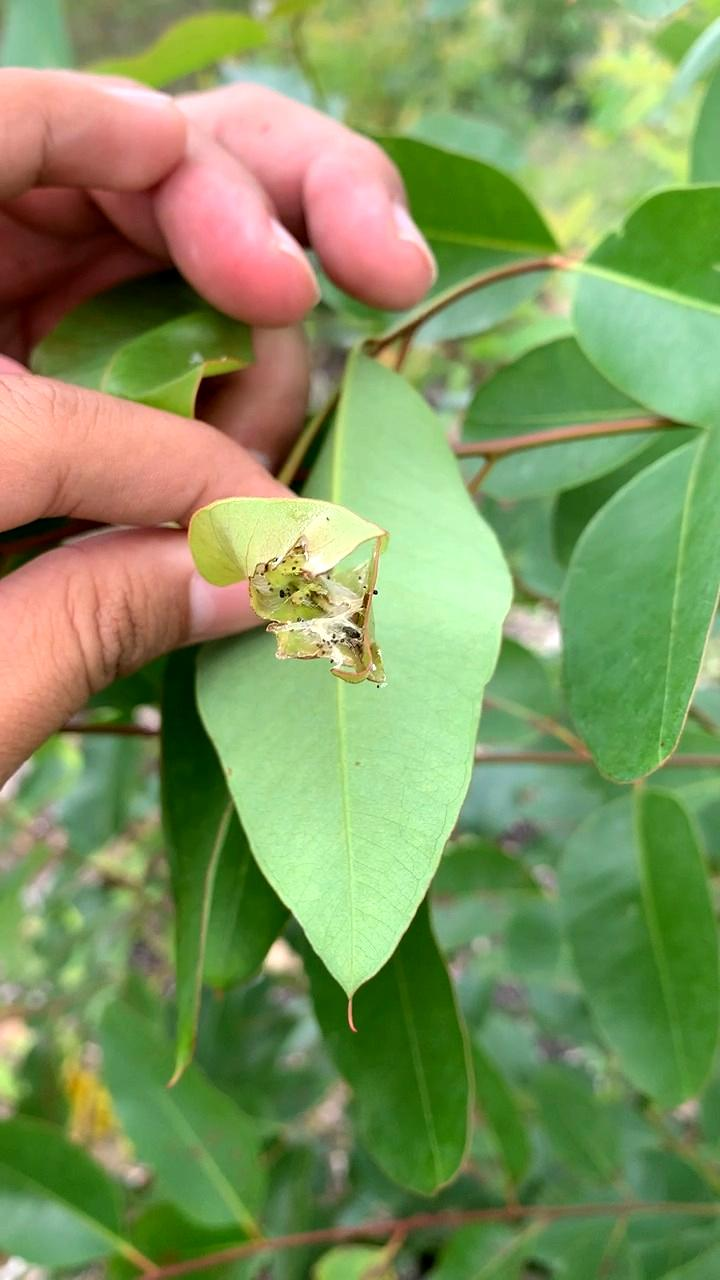Leaf Roller - Leaf: (180, 488, 405, 695)
